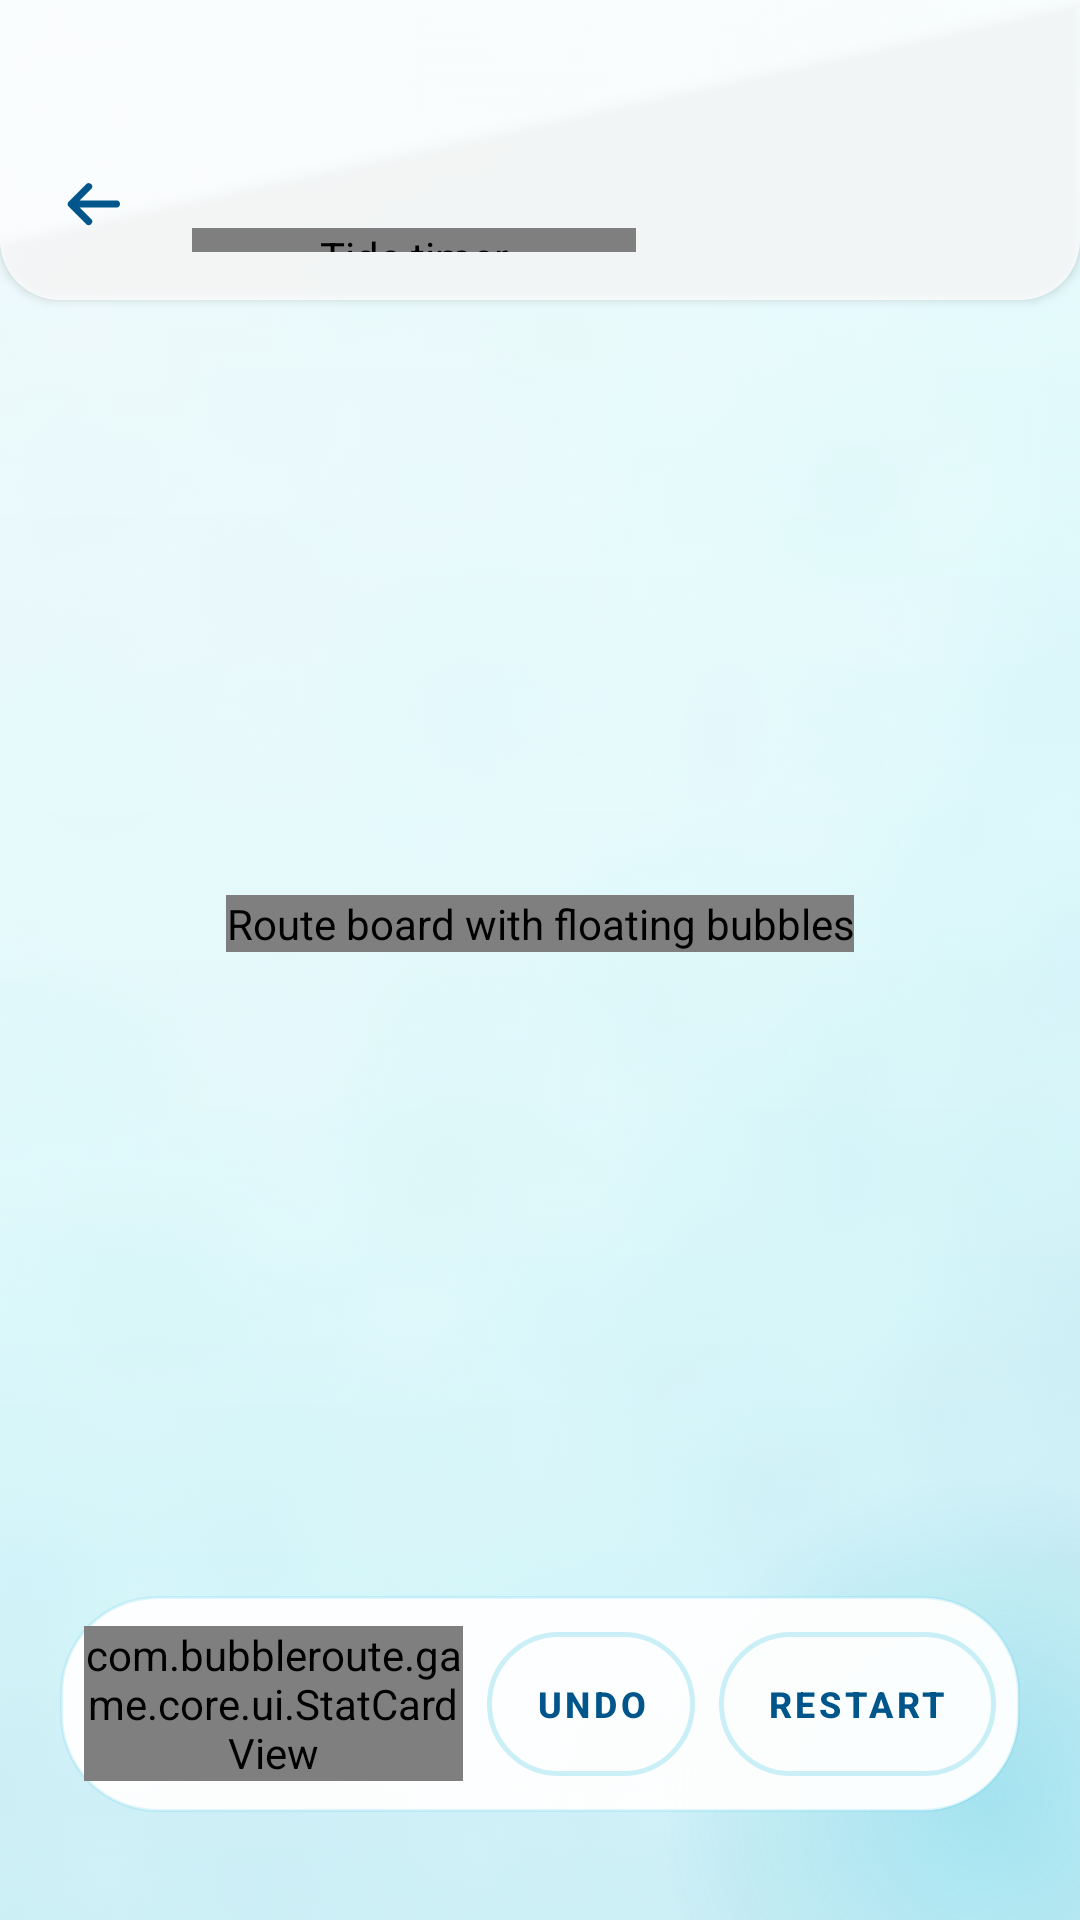

Where icons sit on this 1080×1920 app screen, as (x1, y1, x2, y2):
Back to the lagoon map: (67, 183, 120, 226)
